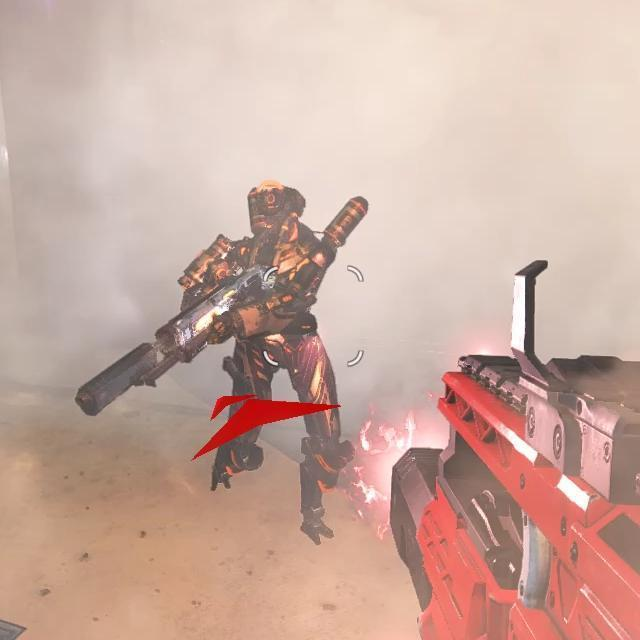avatar: (175, 180, 371, 549)
